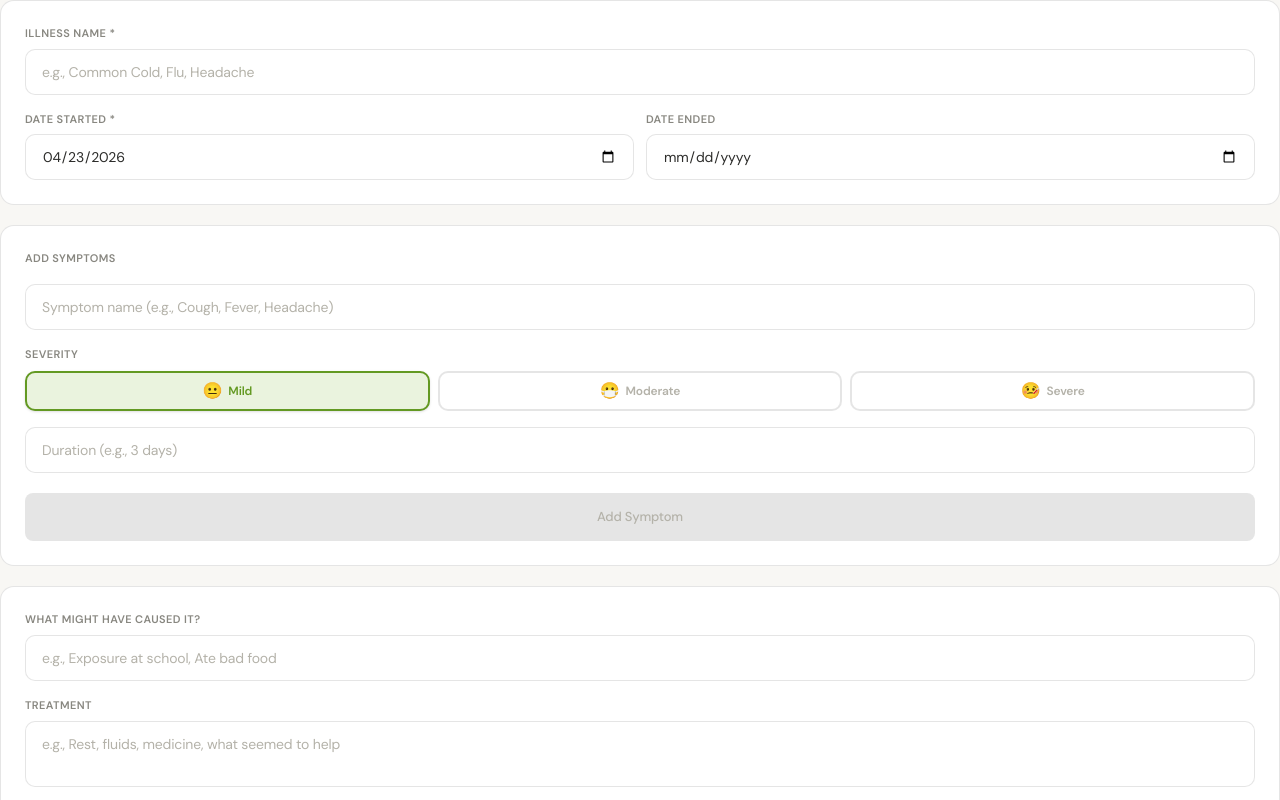
Test: IllnessForm Component › disables submit button while loading
Step 1. Type "Test Illness" into the field labelled "Illness Name *" → [640, 72], box [25,49,1255,95]
(page scrolled)
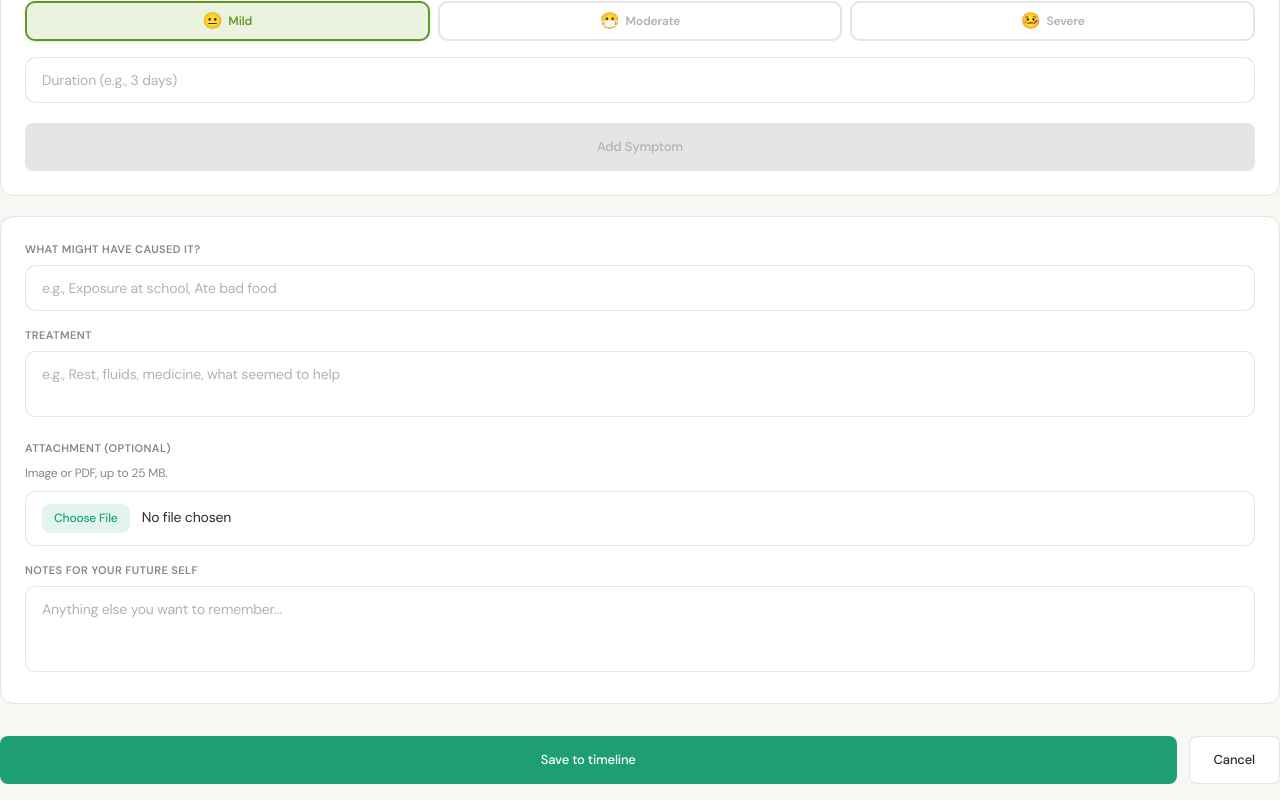
Step 2. Click the button "Save to timeline" → [588, 760], box [0,736,1177,784]
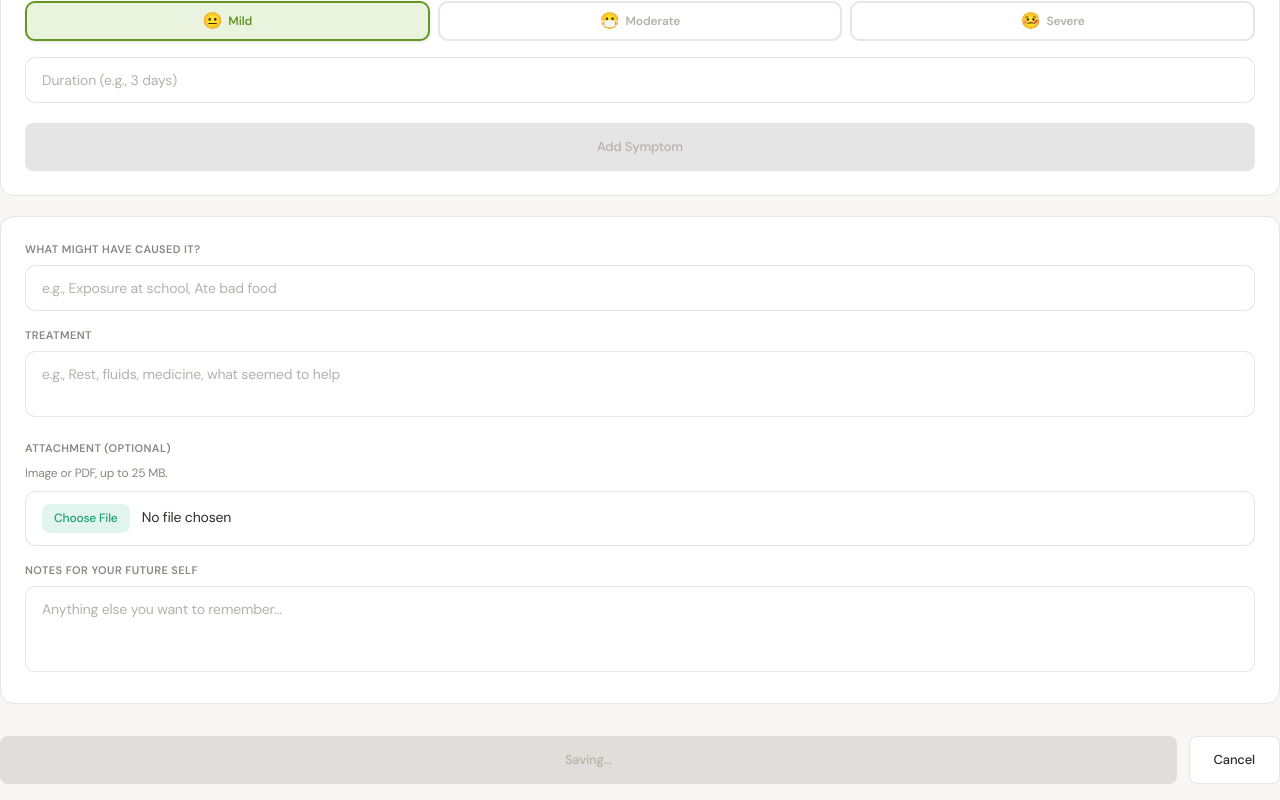
Check: the button "Save to timeline" is disabled, box [0,736,1177,784]
